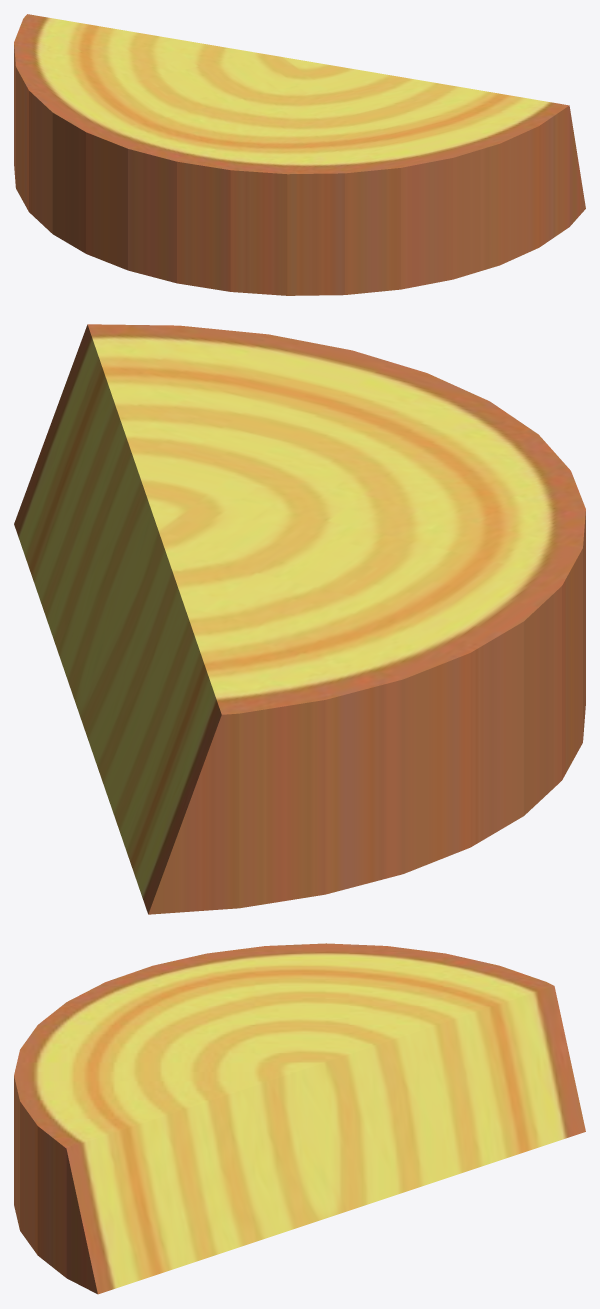
The model's file is Candy1.fbx.
The picture shows the model from 3 angles, top to bottom: view 1: azimuth 30°, elevation 25°; view 2: azimuth 150°, elevation 25°; view 3: azimuth 270°, elevation 25°; orthographic projection. The views are drawn at different scales.
Visible parts, largest first — view 1: Cylinder.001; view 2: Cylinder.001; view 3: Cylinder.001.
Part boxes in pixels (<box>): Cylinder.001: <box>14,14,585,295</box>; Cylinder.001: <box>14,324,585,914</box>; Cylinder.001: <box>14,943,585,1294</box>.
Bounding box in the file's own units: 168 × 45.81 × 183.
